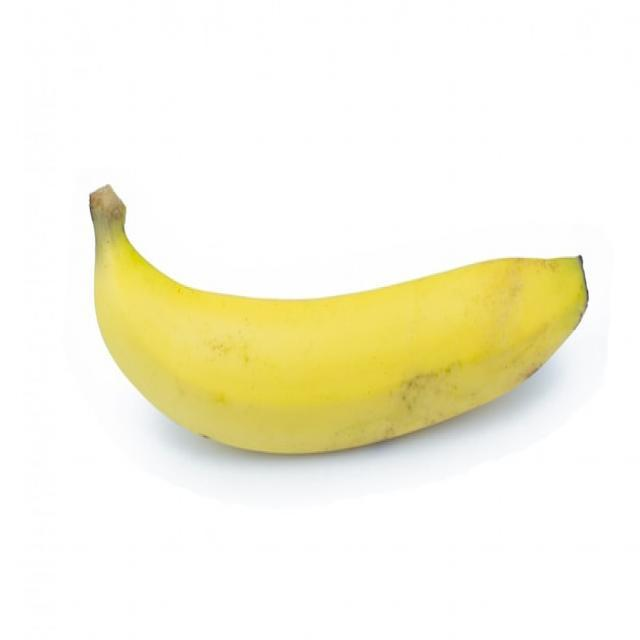Banana: (84, 170, 590, 466)
